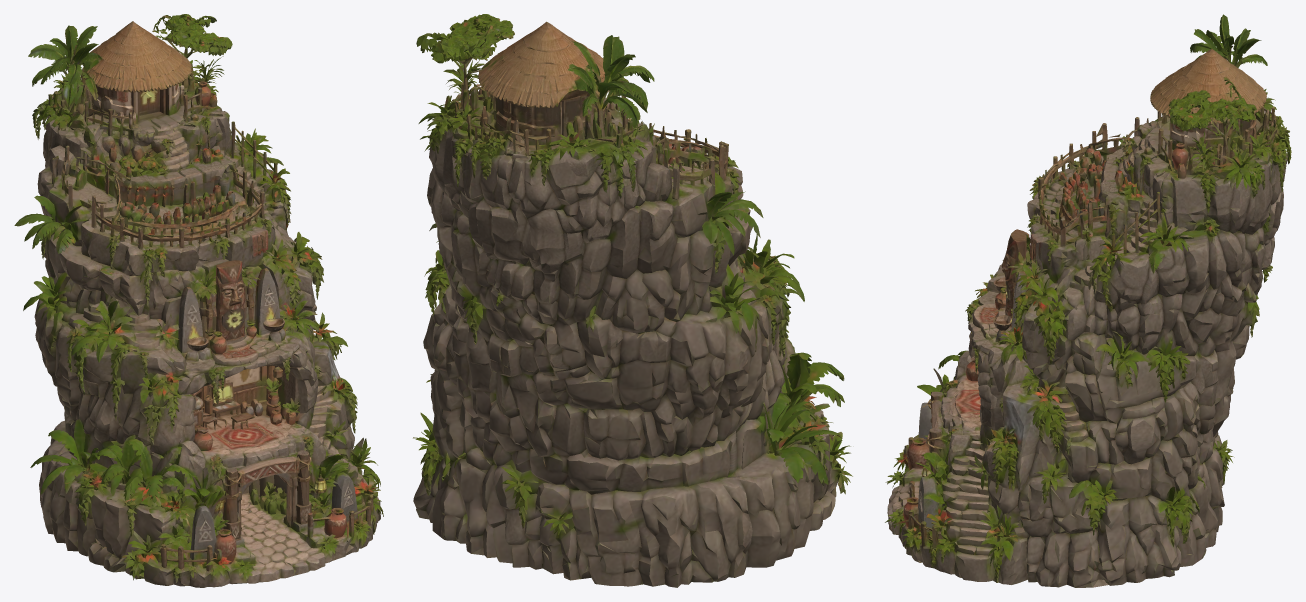
3 renders of one model, left to right at view 1: azimuth 30°, elevation 25°; view 2: azimuth 150°, elevation 25°; view 3: azimuth 270°, elevation 25°, orthographic. The views are drawn at different scales.
Visible parts, largest first — view 1: output_unwrapped; view 2: output_unwrapped; view 3: output_unwrapped.
Boxes of the visible parts, left/top/right/bottom form: output_unwrapped: left=14, top=14, right=383, bottom=587; output_unwrapped: left=413, top=14, right=852, bottom=587; output_unwrapped: left=885, top=14, right=1291, bottom=587.
Size of the model in its own units: 1.41 by 1.91 by 1.52.
1 material, 1 textured.
